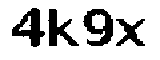4: (10, 6, 45, 53)
9: (80, 6, 115, 49)
k: (47, 6, 80, 49)
x: (114, 14, 147, 49)
